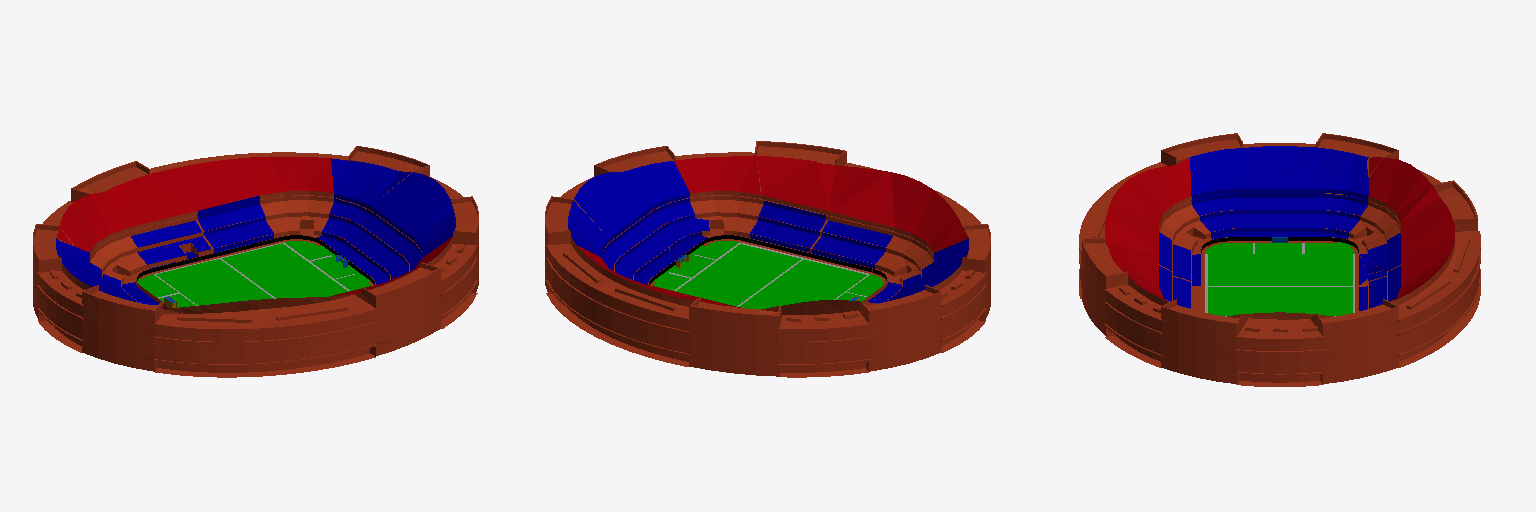
File: stade.obj
3 views of the same model, side by side, from view 1: azimuth 30°, elevation 25°; view 2: azimuth 150°, elevation 25°; view 3: azimuth 270°, elevation 25° (orthographic).
Parts seen in each view (by area): view 1: nmodel_10_27_main.006; view 2: nmodel_10_27_main.006; view 3: nmodel_10_27_main.006.
Boxes of the visible parts, <box> form: nmodel_10_27_main.006: <box>33,146,478,377</box>; nmodel_10_27_main.006: <box>545,141,990,377</box>; nmodel_10_27_main.006: <box>1079,133,1480,386</box>.
Bounding box in the file's own units: 238 × 37.41 × 206.